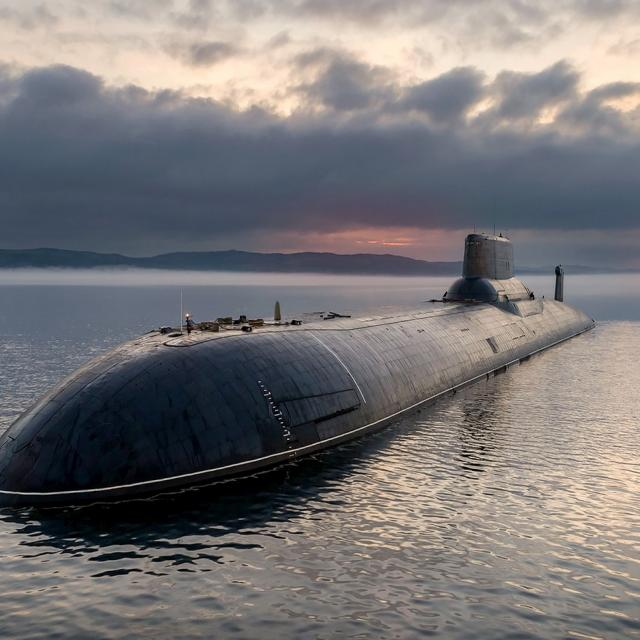submarine: (1, 225, 603, 525)
